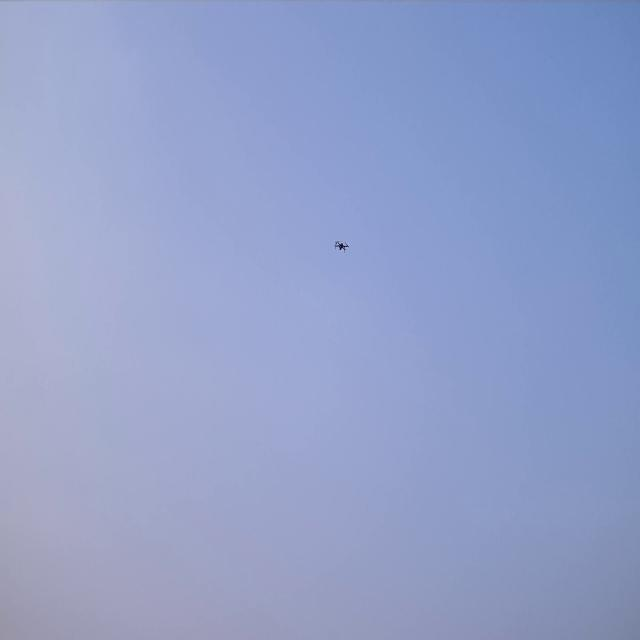UAV: (334, 238, 350, 254)
